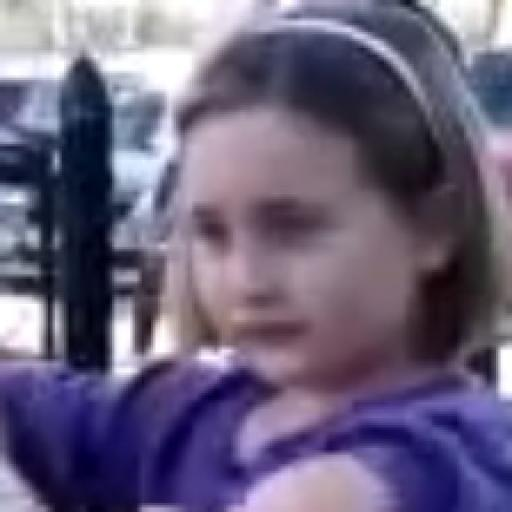Autism: (144, 25, 512, 349)
